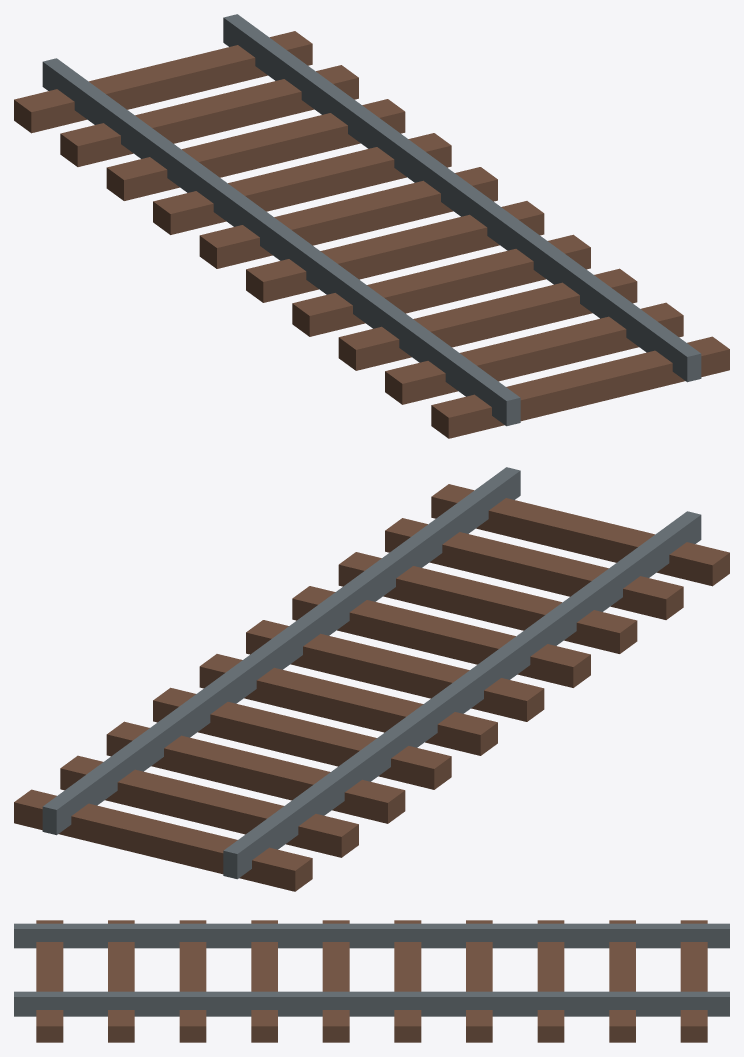
File: cave_mine_rails.glb
3 renders of one model, top to bottom at view 1: azimuth 30°, elevation 25°; view 2: azimuth 150°, elevation 25°; view 3: azimuth 270°, elevation 25°, orthographic. The views are drawn at different scales.
Visible parts, largest first — view 1: cave_mine_rails_Mesh; view 2: cave_mine_rails_Mesh; view 3: cave_mine_rails_Mesh.
Part boxes in pixels (x1,y1,x2,y2): cave_mine_rails_Mesh: [14, 14, 729, 438]; cave_mine_rails_Mesh: [14, 467, 729, 891]; cave_mine_rails_Mesh: [14, 920, 729, 1042].
Size of the model in its own units: 1.4 by 0.18 by 4.
